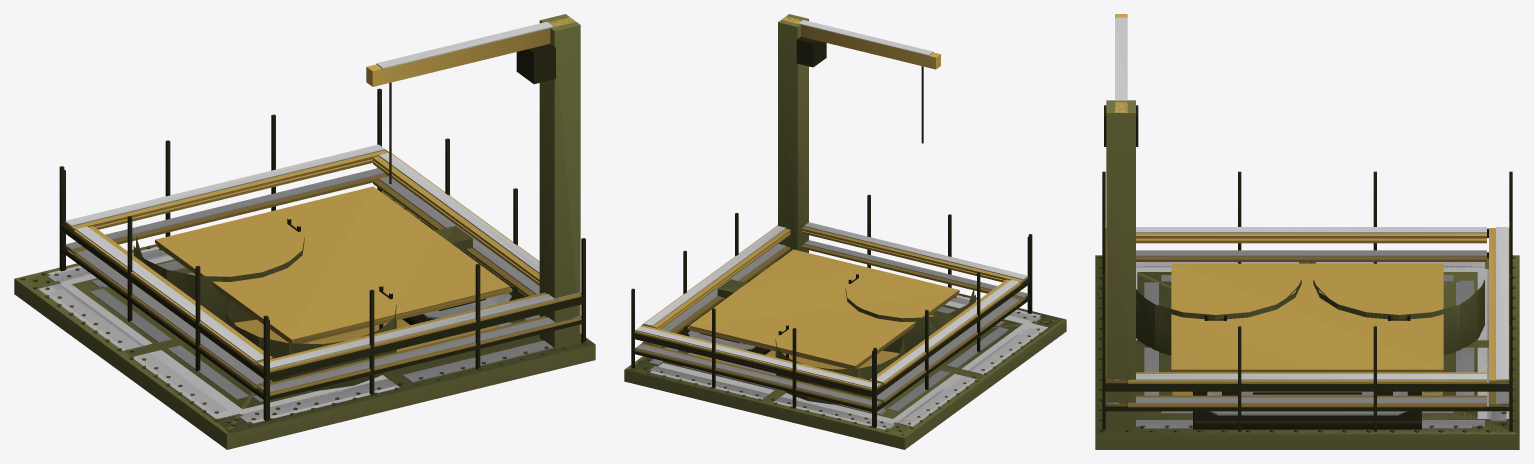
File: meridian_ore_silo_scaffolding.glb
3 views of the same model, side by side, from view 1: azimuth 30°, elevation 25°; view 2: azimuth 150°, elevation 25°; view 3: azimuth 270°, elevation 25° (orthographic). The views are drawn at different scales.
Visible parts, largest first — view 1: body (×3); view 2: body (×3); view 3: body (×3).
Part boxes in pixels (left/top/right/bottom): body (×3): left=14, top=14, right=595, bottom=449; body (×3): left=624, top=14, right=1066, bottom=449; body (×3): left=1095, top=14, right=1519, bottom=449.
Size of the model in its own units: 7.4 by 6.42 by 7.4.
